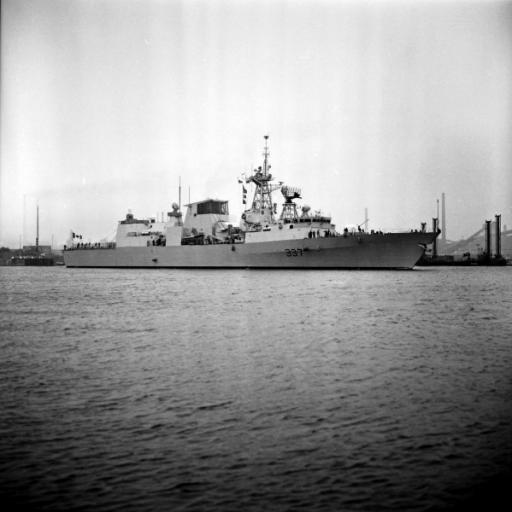Fragata: (58, 121, 445, 273)
